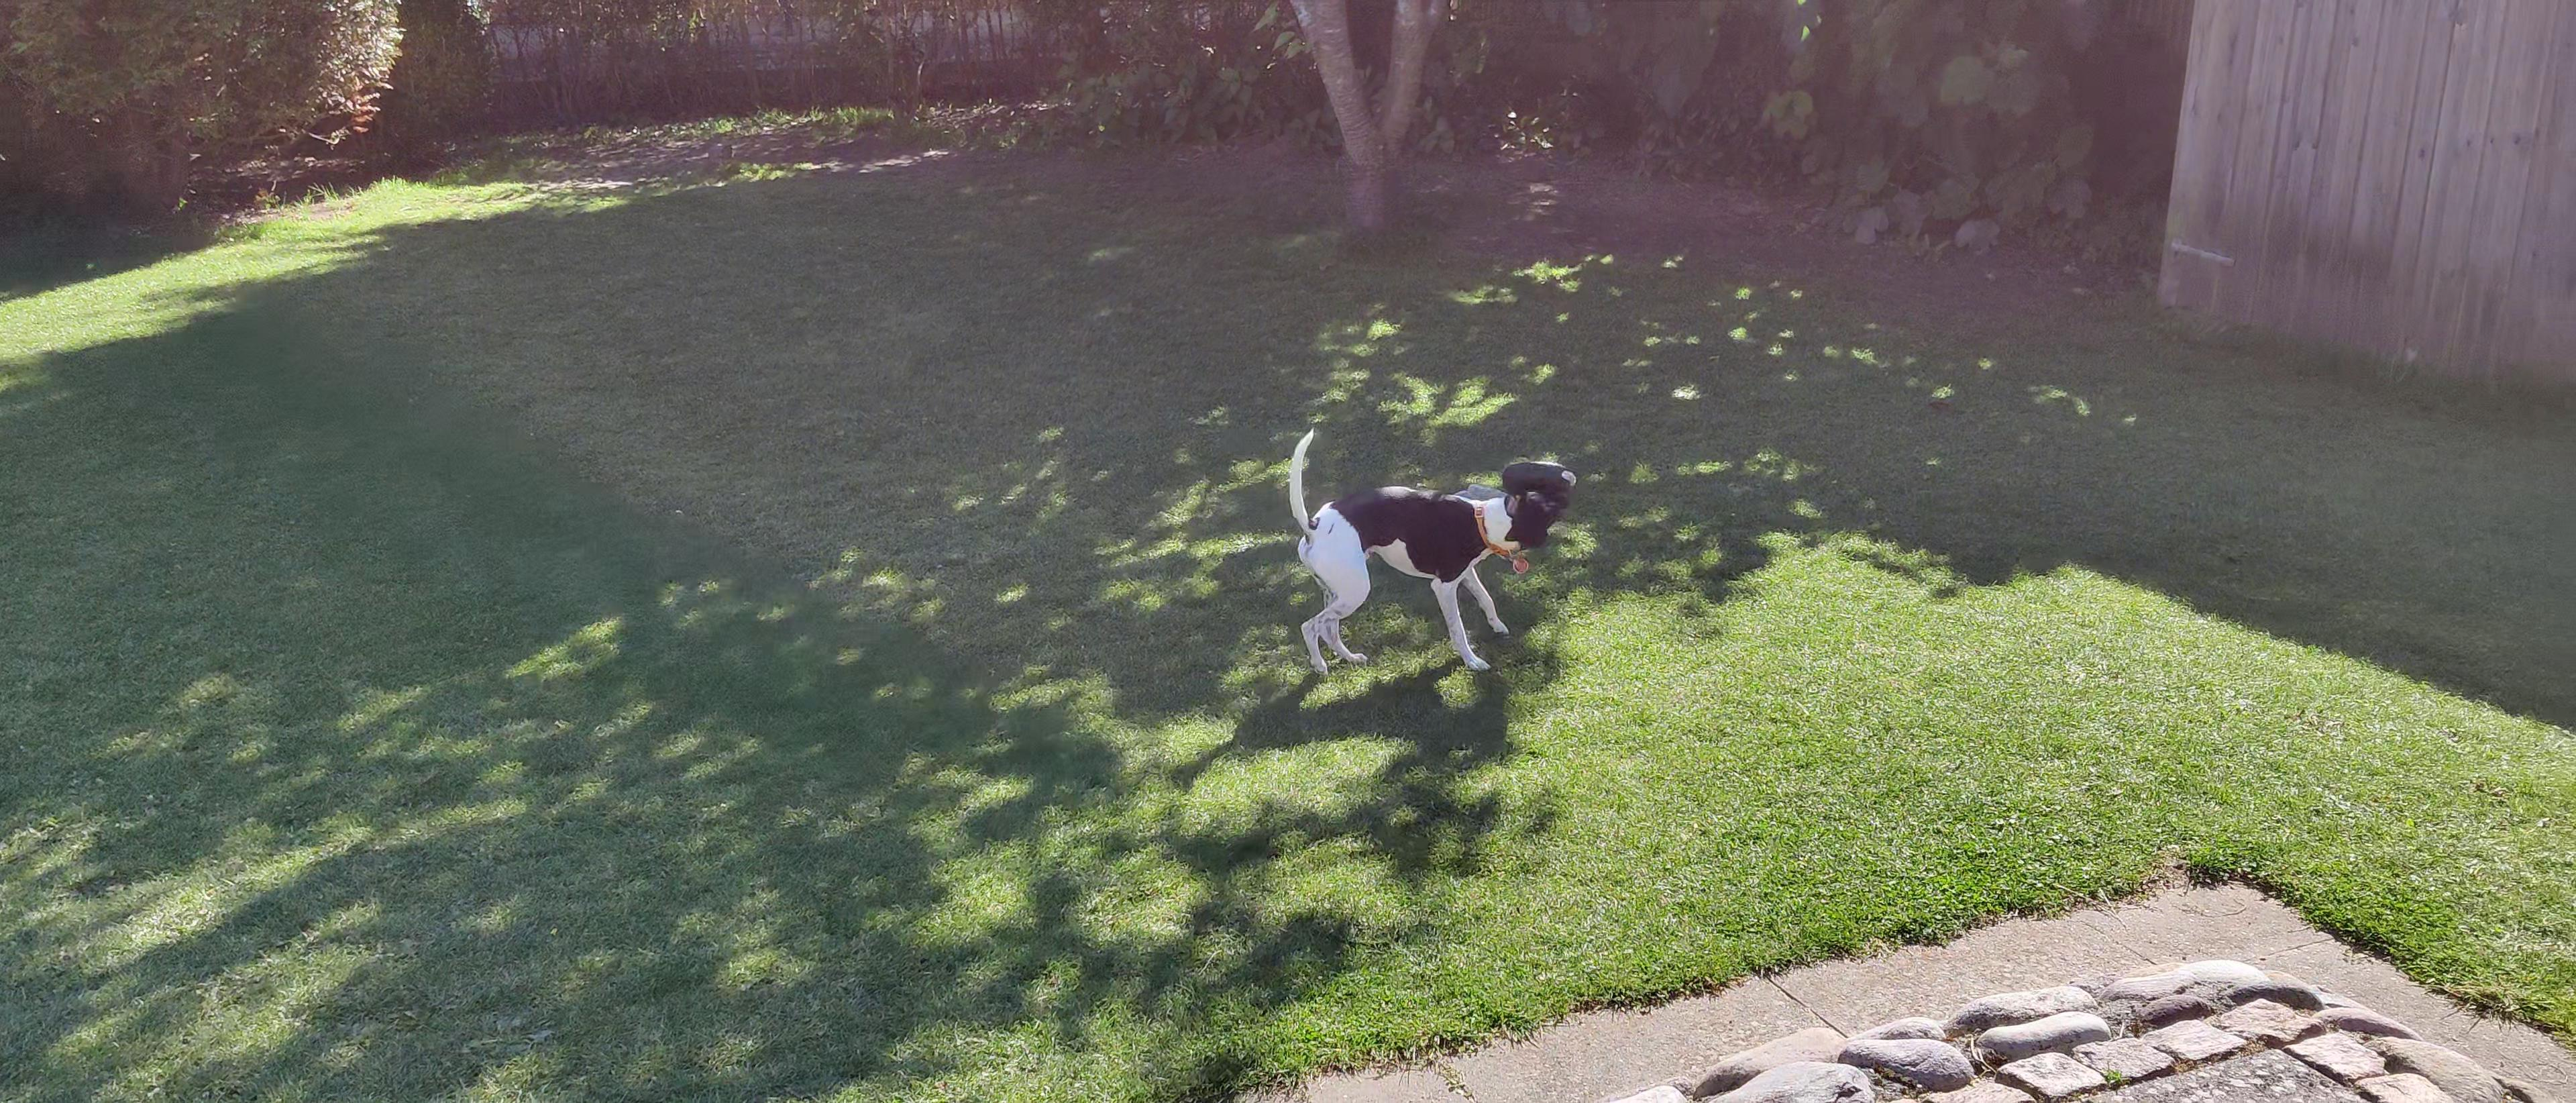Dog: (1273, 409, 1572, 685)
